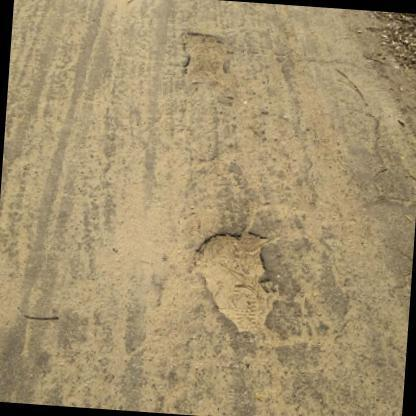pothole: (194, 224, 279, 336), (181, 26, 233, 84)
